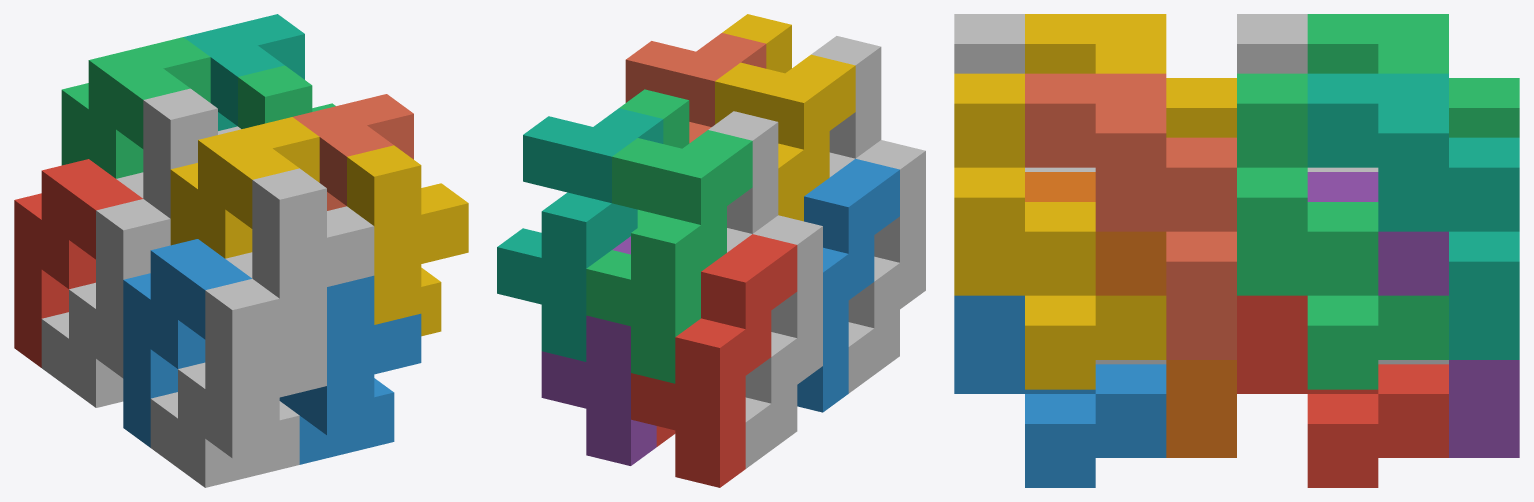
The model's file is tiling.obj.
3 renders of one model, left to right at view 1: azimuth 30°, elevation 25°; view 2: azimuth 150°, elevation 25°; view 3: azimuth 270°, elevation 25°, orthographic. The views are drawn at different scales.
Visible parts, largest first — view 1: copy_2_domain_2, copy_2_domain_4, copy_2_domain_8, copy_2_domain_6, copy_1_domain_2, copy_2_domain_1, copy_1_domain_1, copy_1_domain_3, copy_1_domain_4, copy_1_domain_7, copy_1_domain_8, copy_2_domain_3 (+1 smaller); view 2: copy_1_domain_3, copy_1_domain_1, copy_1_domain_7, copy_1_domain_2, copy_1_domain_4, copy_2_domain_1, copy_2_domain_2, copy_1_domain_5, copy_1_domain_8, copy_2_domain_4, copy_2_domain_3, copy_2_domain_7 (+1 smaller); view 3: copy_1_domain_7, copy_1_domain_8, copy_2_domain_7, copy_2_domain_8, copy_2_domain_5, copy_2_domain_6, copy_1_domain_6, copy_1_domain_5, copy_1_domain_3, copy_1_domain_4, copy_2_domain_3, copy_2_domain_4.
Boxes of the visible parts, bbox=[...] form: copy_2_domain_2: bbox=[150, 278, 326, 487]; copy_2_domain_4: bbox=[225, 168, 374, 347]; copy_2_domain_8: bbox=[347, 145, 468, 336]; copy_2_domain_6: bbox=[279, 275, 421, 464]; copy_1_domain_2: bbox=[123, 239, 251, 447]; copy_2_domain_1: bbox=[41, 199, 170, 407]; copy_1_domain_1: bbox=[14, 159, 142, 367]; copy_1_domain_3: bbox=[61, 37, 210, 178]; copy_1_domain_4: bbox=[170, 117, 319, 258]; copy_1_domain_7: bbox=[183, 14, 304, 130]; copy_1_domain_8: bbox=[293, 94, 413, 210]; copy_2_domain_3: bbox=[116, 88, 241, 218]; copy_1_domain_3: bbox=[586, 130, 752, 383]; copy_1_domain_1: bbox=[631, 234, 797, 487]; copy_1_domain_7: bbox=[497, 108, 663, 361]; copy_1_domain_2: bbox=[797, 158, 899, 412]; copy_1_domain_4: bbox=[715, 54, 855, 221]; copy_2_domain_1: bbox=[745, 215, 822, 468]; copy_2_domain_2: bbox=[848, 140, 925, 393]; copy_1_domain_5: bbox=[541, 236, 656, 465]; copy_1_domain_8: bbox=[625, 33, 766, 143]; copy_2_domain_4: bbox=[811, 36, 881, 177]; copy_2_domain_3: bbox=[708, 111, 778, 252]; copy_2_domain_7: bbox=[619, 89, 689, 227]; copy_1_domain_7: bbox=[1307, 73, 1519, 359]; copy_1_domain_8: bbox=[1025, 73, 1236, 359]; copy_2_domain_7: bbox=[1237, 73, 1448, 389]; copy_2_domain_8: bbox=[954, 73, 1166, 389]; copy_2_domain_5: bbox=[1237, 295, 1448, 487]; copy_2_domain_6: bbox=[954, 295, 1166, 487]; copy_1_domain_6: bbox=[1025, 172, 1236, 457]; copy_1_domain_5: bbox=[1307, 172, 1519, 457]; copy_1_domain_3: bbox=[1307, 14, 1519, 137]; copy_1_domain_4: bbox=[1025, 14, 1236, 137]; copy_2_domain_3: bbox=[1237, 14, 1378, 171]; copy_2_domain_4: bbox=[954, 14, 1095, 171].
Size of the model in its own units: 5 by 6 by 8.
